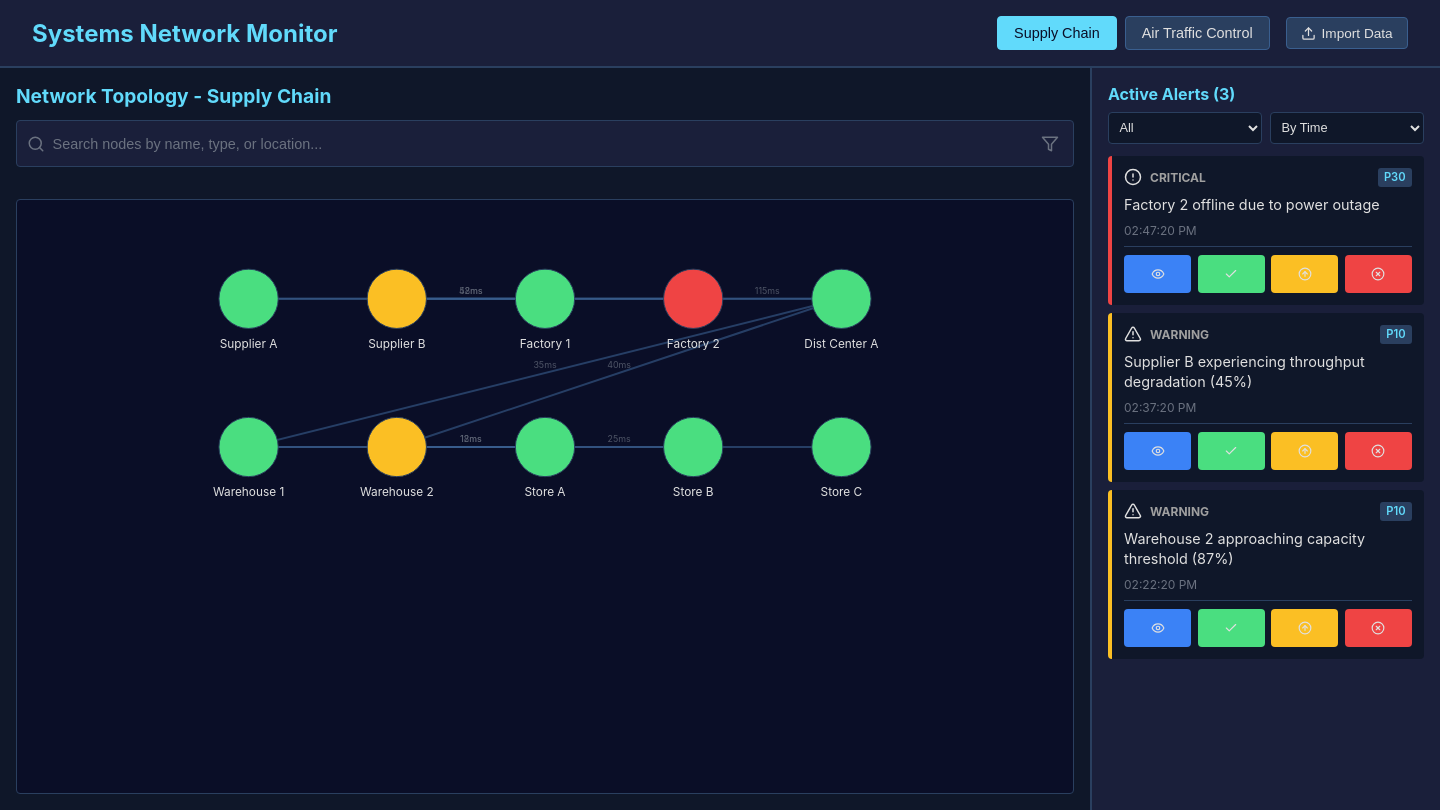
clicking Investigate marks alert as under investigation
The image size is (1440, 810).
Note: Find and click the Investigate button on the first unacknowledged alert
Click the button named "Investigate" below "02:47:20 PM".
click(1158, 274)  # box [1124, 255, 1191, 293]
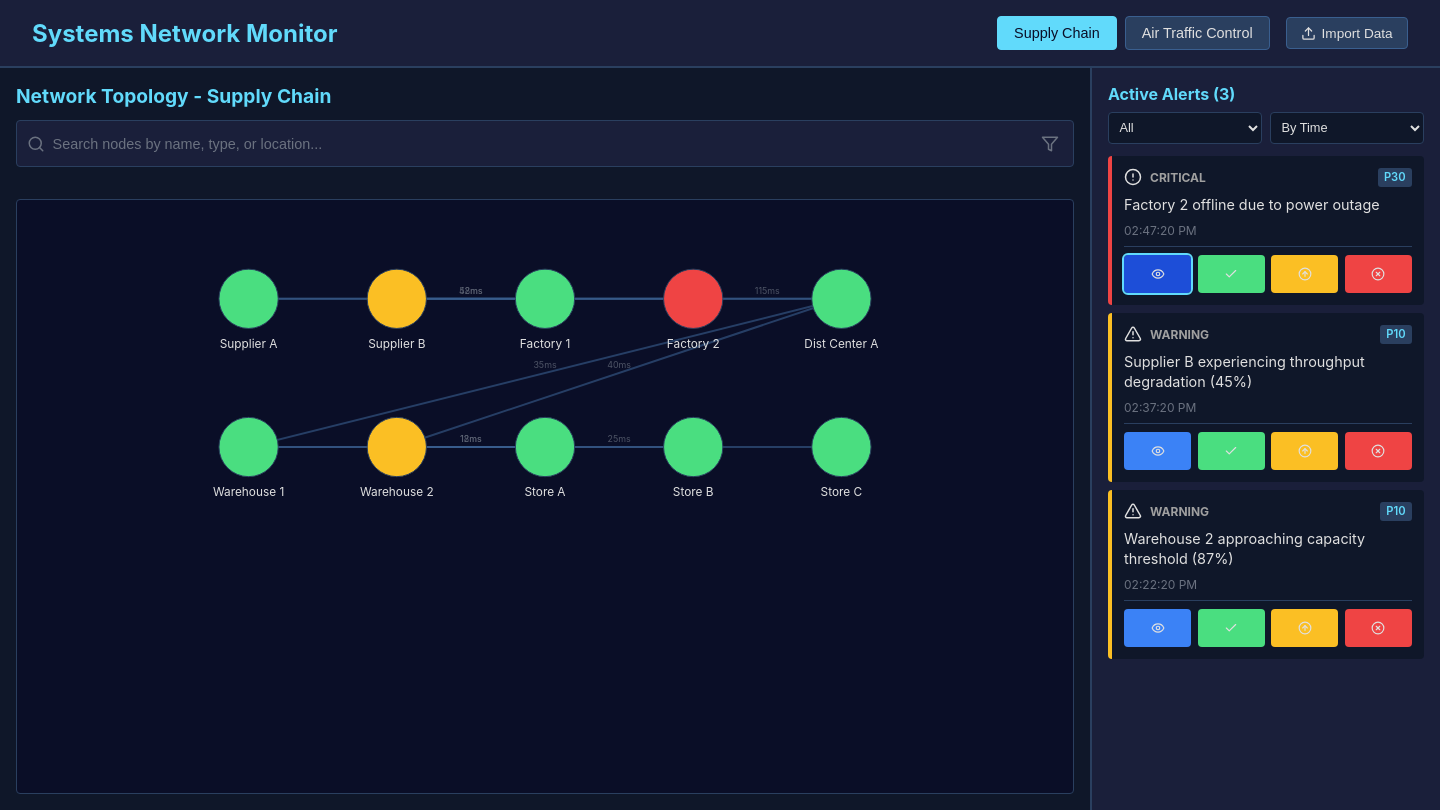
Now the button named "Under Investigation" is shown, box [1124, 255, 1191, 293]
